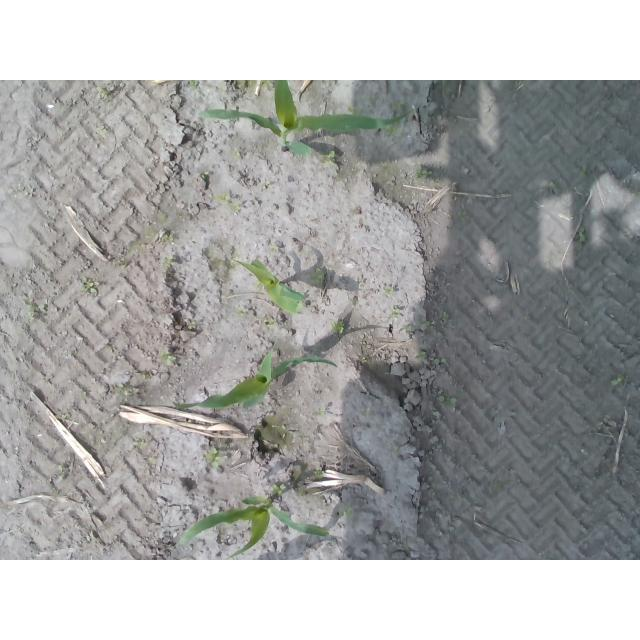Maize: (200, 80, 413, 160), (173, 349, 337, 412), (177, 494, 331, 560), (233, 257, 307, 318)
Weeds: (215, 193, 241, 216), (25, 299, 45, 321), (117, 382, 132, 403), (207, 447, 221, 469), (436, 393, 457, 407), (160, 347, 175, 365), (323, 149, 337, 168), (311, 267, 325, 286), (81, 281, 98, 296), (329, 317, 343, 335), (270, 483, 286, 496), (385, 125, 403, 135), (416, 167, 433, 177), (391, 98, 405, 110), (133, 440, 148, 451), (263, 316, 276, 328), (99, 88, 112, 99), (610, 376, 623, 387), (415, 351, 426, 363), (383, 287, 397, 296), (231, 148, 241, 160), (313, 466, 324, 476), (163, 233, 174, 243), (320, 406, 329, 418), (433, 358, 445, 367), (390, 309, 400, 319), (235, 308, 245, 317), (189, 81, 200, 88)
